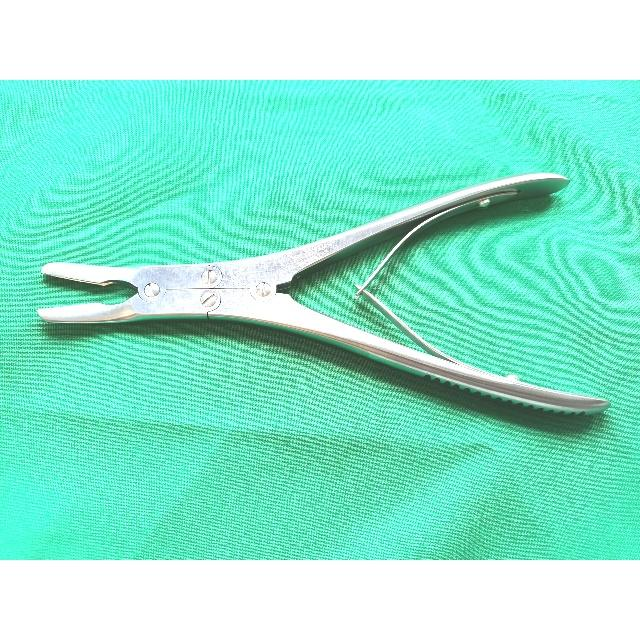gubia: (37, 174, 609, 415)
